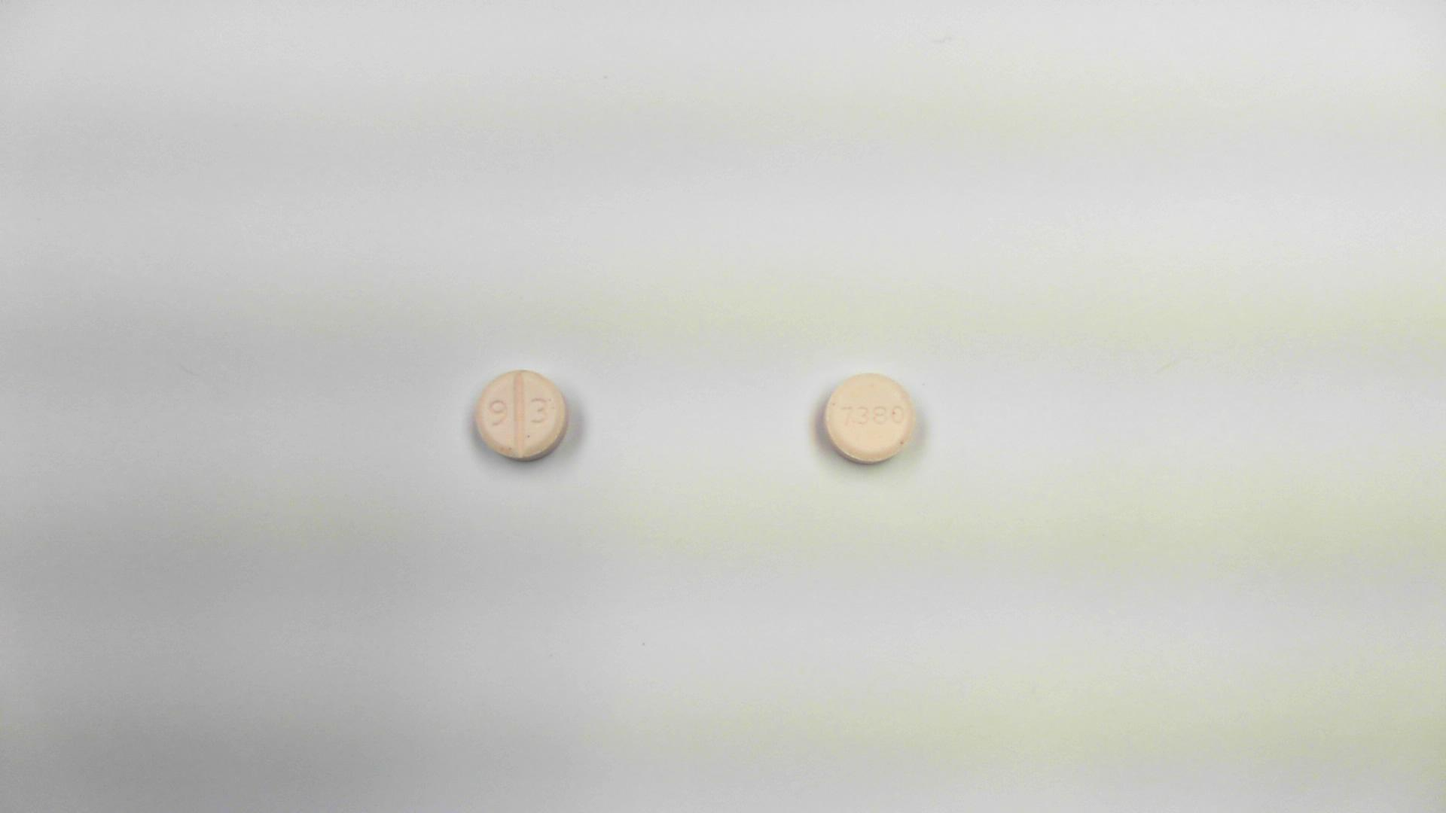Pill: (470, 361, 574, 467), (818, 364, 920, 471)
